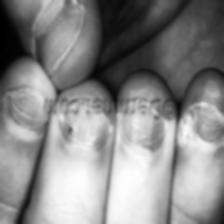Toxin: (179, 115, 207, 154)
